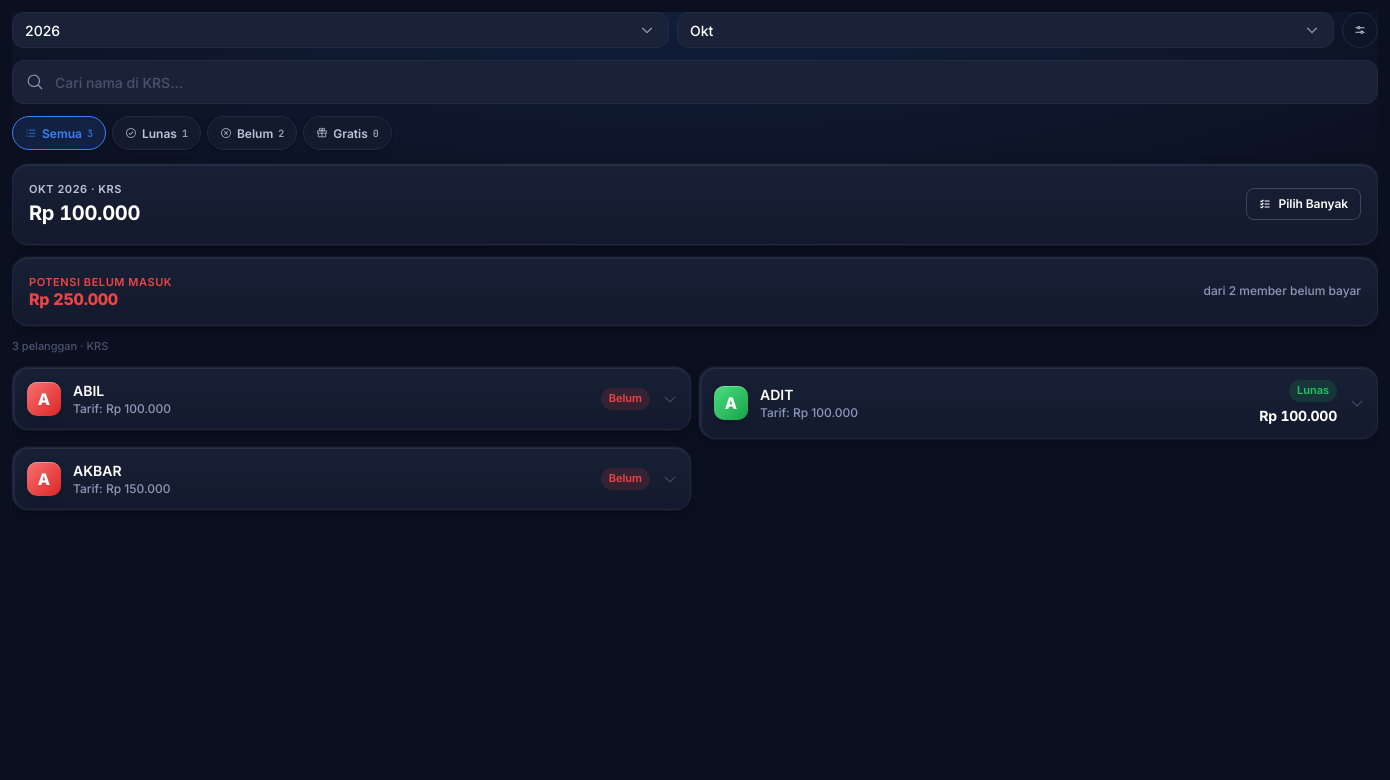
Scenario: EntryView (T7) › kartu dibuka: nominal, quick pay kustom (settings.quickAmounts), tanggal terkunci saat autoDate
This screenshot has width=1390, height=780.
Click the button "A ABIL Tarif: Rp 100.000 Belum": (44, 399) [27, 382, 678, 416]
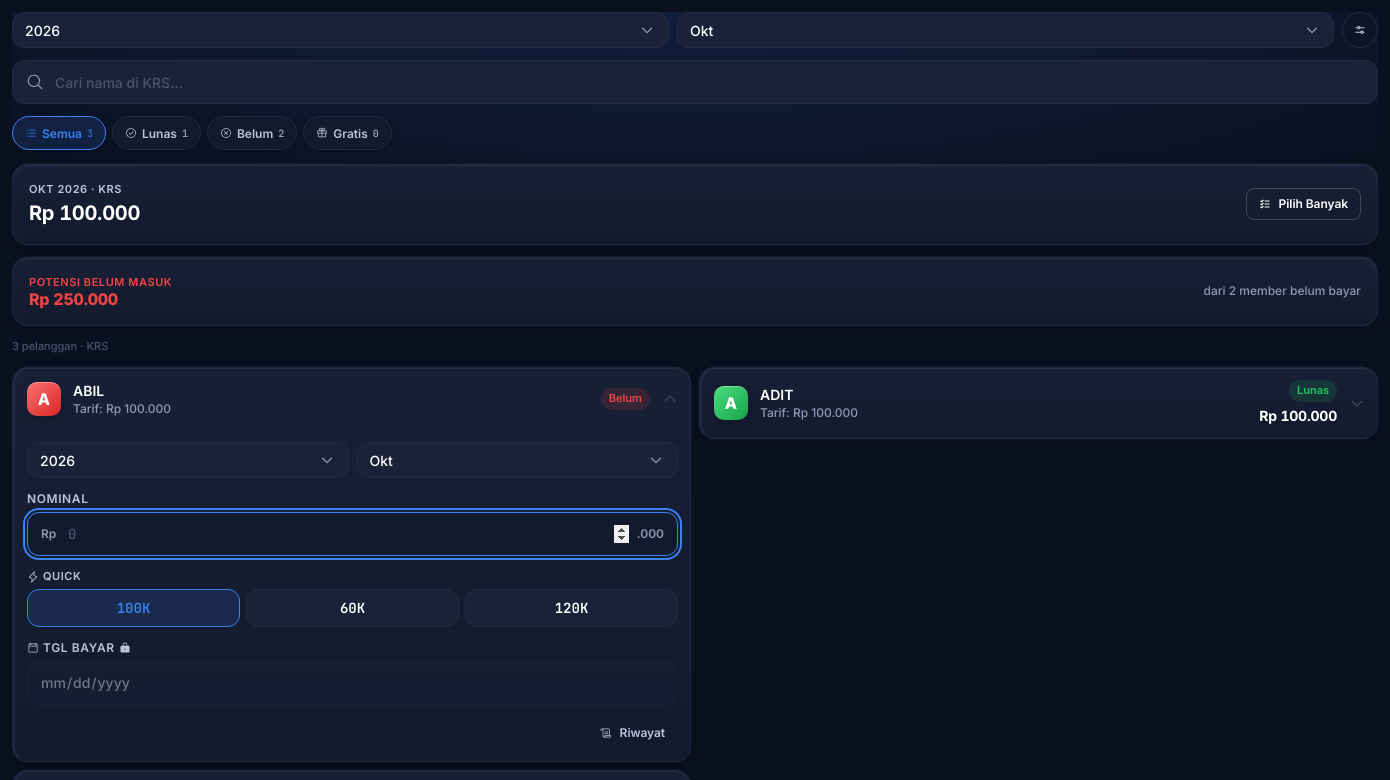
Check: the button "100K" is shown, box [27, 589, 240, 627]
Check: the button "60K" is shown, box [246, 589, 459, 627]
Check: the button "120K" is shown, box [465, 589, 678, 627]
